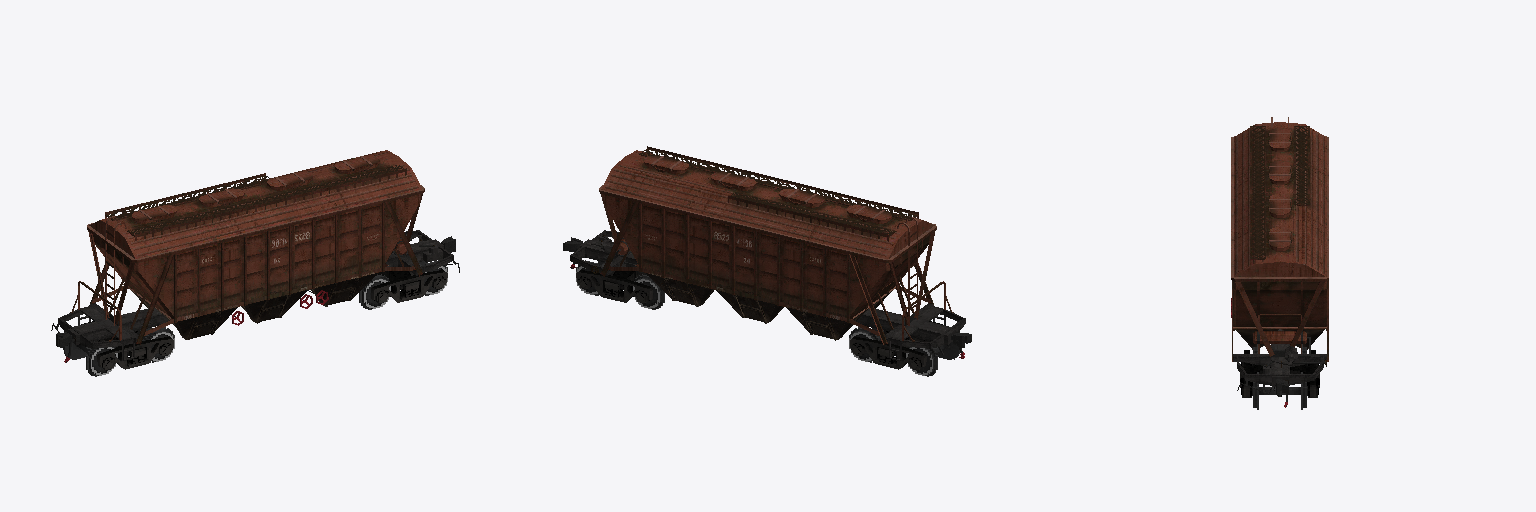
3 views of the same model, side by side, from view 1: azimuth 30°, elevation 25°; view 2: azimuth 150°, elevation 25°; view 3: azimuth 270°, elevation 25° (orthographic).
Visible parts, largest first — view 1: FRAME_hopper, BOGEY_REAR_hopper, BOGEY_FRONT_hopper, BOGEY_FRONT_WHEEL_1_hopper; view 2: FRAME_hopper, BOGEY_REAR_hopper, BOGEY_FRONT_hopper, BOGEY_FRONT_WHEEL_1_hopper; view 3: FRAME_hopper, BOGEY_REAR_hopper, BOGEY_REAR_WHEEL_2_hopper.
Part boxes in pixels (x1,y1,x2,y2): FRAME_hopper: (51, 150, 459, 362); BOGEY_REAR_hopper: (371, 270, 447, 302); BOGEY_FRONT_hopper: (64, 321, 173, 369); BOGEY_FRONT_WHEEL_1_hopper: (63, 341, 117, 376); FRAME_hopper: (563, 146, 971, 361); BOGEY_REAR_hopper: (576, 270, 652, 302); BOGEY_FRONT_hopper: (850, 314, 959, 369); BOGEY_FRONT_WHEEL_1_hopper: (906, 342, 959, 376); FRAME_hopper: (1231, 117, 1328, 407); BOGEY_REAR_hopper: (1240, 350, 1319, 397); BOGEY_REAR_WHEEL_2_hopper: (1252, 372, 1307, 409).
Size of the model in its own units: 14.84 by 4.98 by 3.17.
Materials: 2 (2 with a texture image).